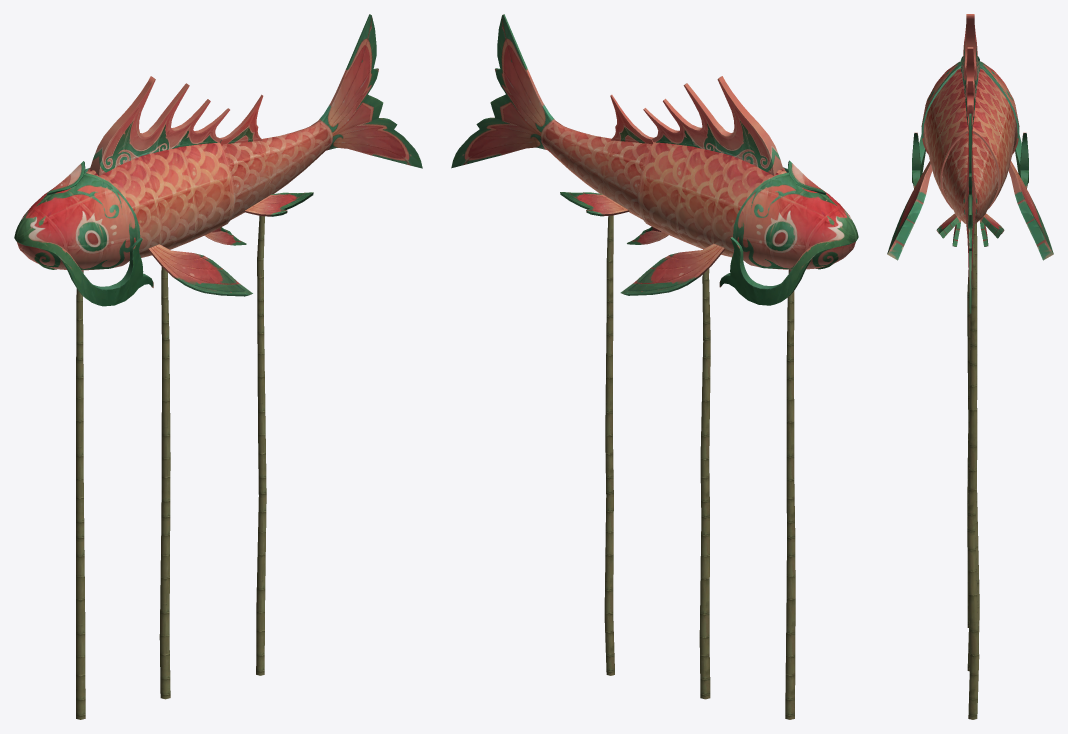
File: Homeworld_Exterior_Cyg_Lamp_Light_FishBig_01_Lod0.fbx
The picture shows the model from 3 angles, left to right: view 1: azimuth 30°, elevation 25°; view 2: azimuth 150°, elevation 25°; view 3: azimuth 270°, elevation 25°; orthographic projection. The views are drawn at different scales.
Parts seen in each view (by area): view 1: Area_Cyg_Light_QYZ_Yudeng_02_Lod0; view 2: Area_Cyg_Light_QYZ_Yudeng_02_Lod0; view 3: Area_Cyg_Light_QYZ_Yudeng_02_Lod0.
Boxes of the visible parts, left/top/right/bottom form: Area_Cyg_Light_QYZ_Yudeng_02_Lod0: left=14, top=14, right=422, bottom=719; Area_Cyg_Light_QYZ_Yudeng_02_Lod0: left=451, top=14, right=858, bottom=719; Area_Cyg_Light_QYZ_Yudeng_02_Lod0: left=887, top=14, right=1053, bottom=719.
Bounding box in the file's own units: 6.07 × 9.06 × 2.07.
1 material, 1 textured.
